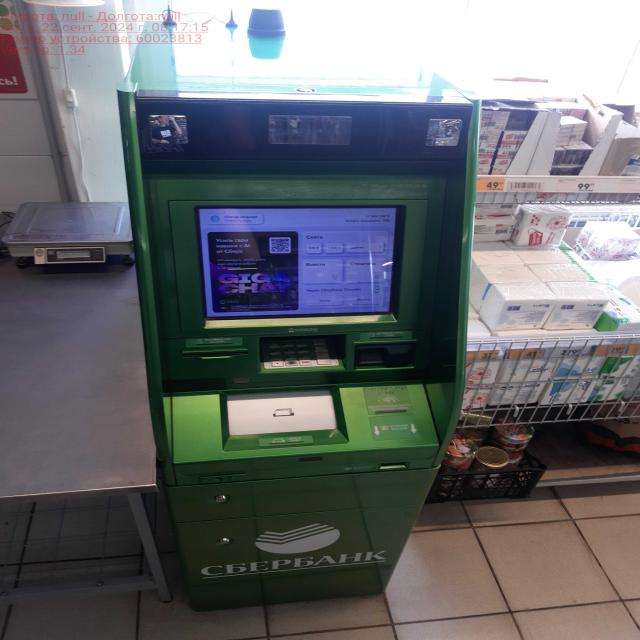bank: (119, 70, 471, 609)
